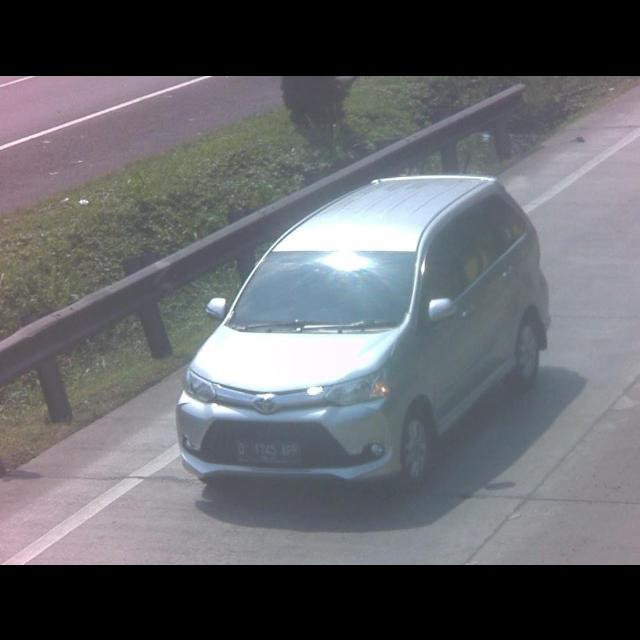plate: (234, 438, 300, 462)
